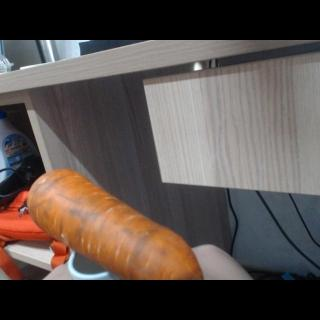carrot: (26, 168, 204, 280)
